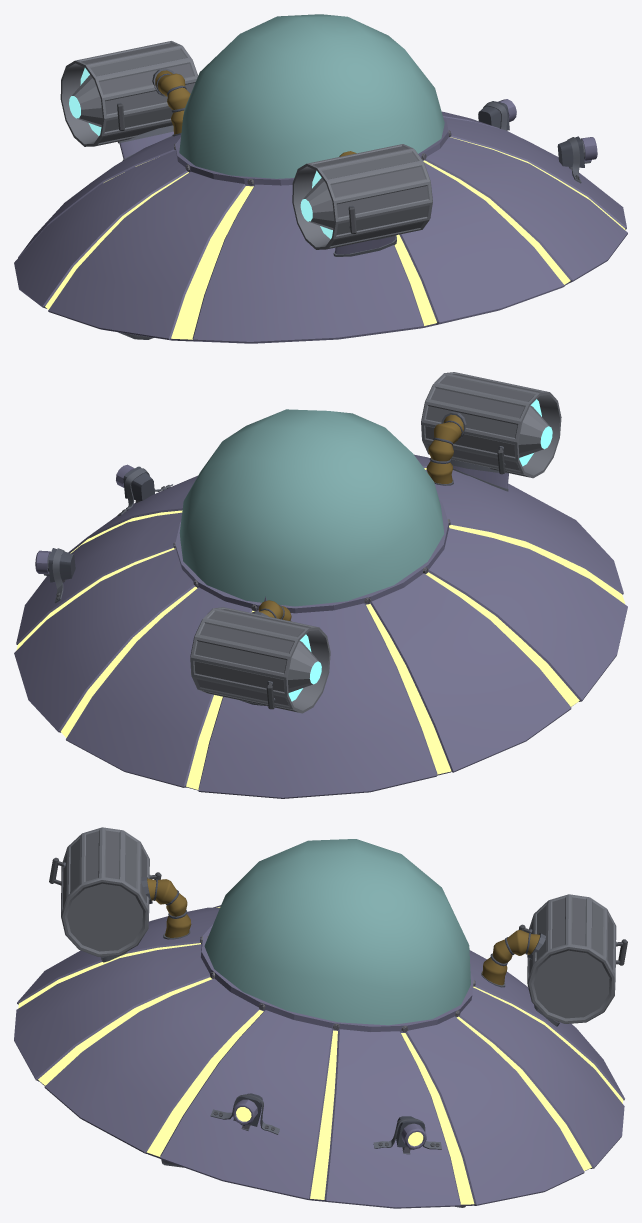
The model's file is ricks ufo.glb.
The picture shows the model from 3 angles, top to bottom: view 1: azimuth 30°, elevation 25°; view 2: azimuth 150°, elevation 25°; view 3: azimuth 270°, elevation 25°; orthographic projection.
Parts seen in each view (by area): view 1: polySurface551; view 2: polySurface551; view 3: polySurface551.
Boxes of the visible parts, x1,y1,x2,y2 form: polySurface551: (14,14,627,343); polySurface551: (14,372,627,798); polySurface551: (14,827,627,1208).
Size of the model in its own units: 0.0927 by 0.0454 by 0.0915.
